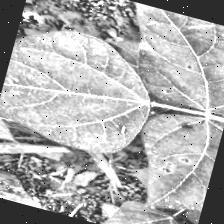ALS: (97, 0, 224, 120), (124, 104, 224, 218)
